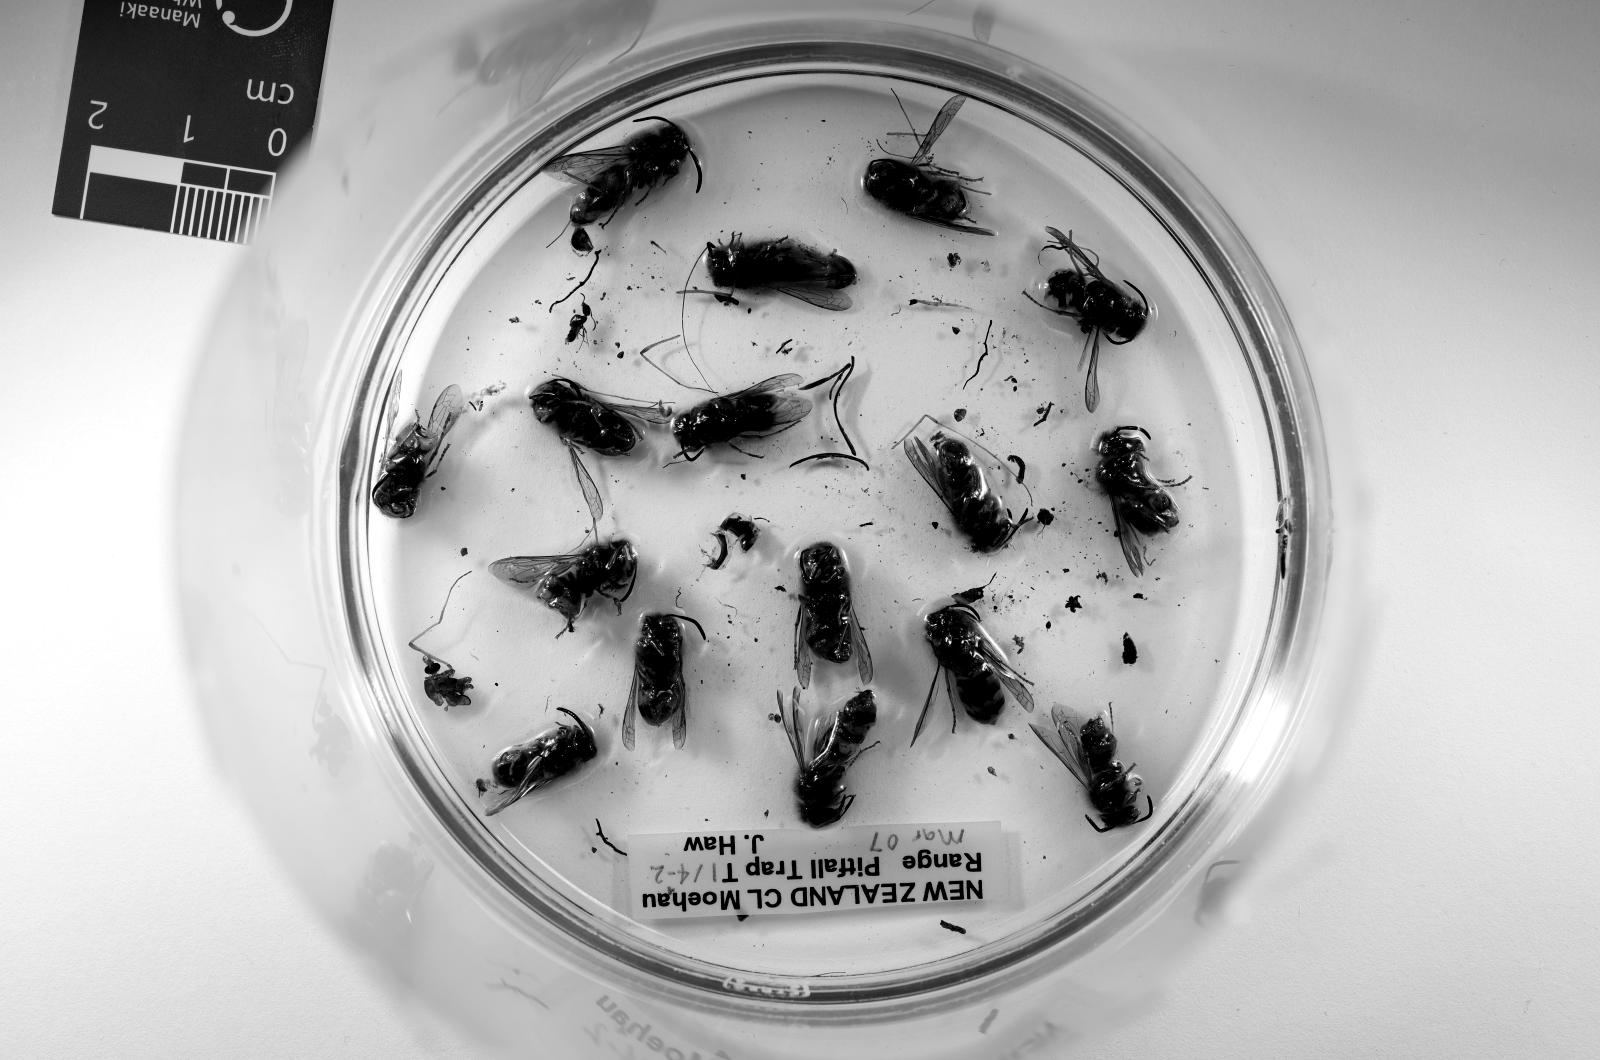formicidae: (566, 301, 591, 345)
vespidae: (528, 379, 672, 540), (1041, 227, 1150, 413), (866, 93, 994, 236), (912, 599, 1034, 742), (544, 118, 703, 227), (1031, 705, 1153, 832), (903, 432, 1028, 553), (372, 370, 466, 519), (775, 689, 875, 829), (1097, 425, 1184, 578), (491, 540, 638, 630), (478, 708, 597, 814), (672, 373, 812, 460), (622, 612, 706, 752), (706, 233, 856, 311), (794, 543, 872, 686)
